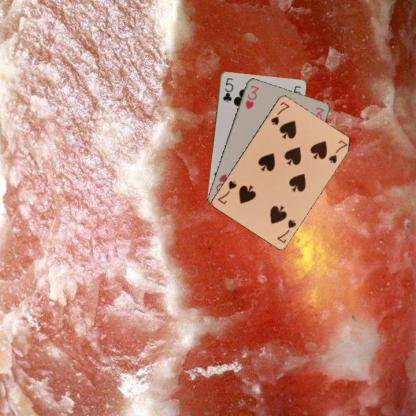3h: (242, 82, 260, 110)
5c: (220, 75, 234, 103)
7s: (274, 217, 298, 244), (268, 99, 291, 126)
